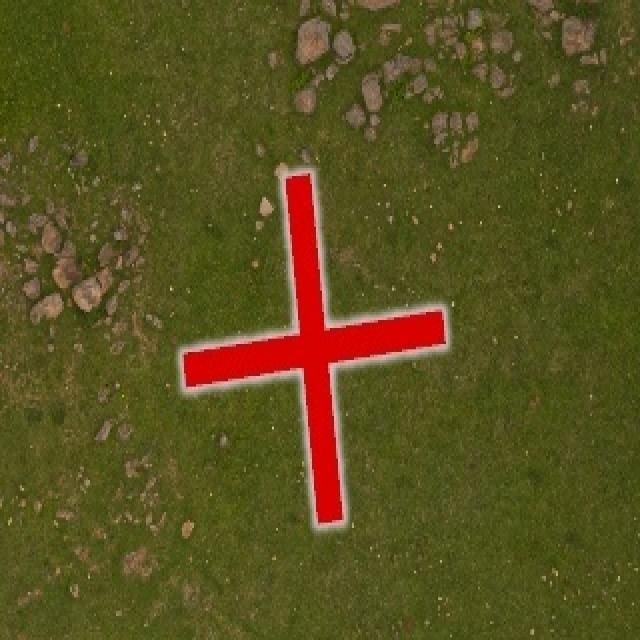x_marker: (181, 172, 445, 524)
